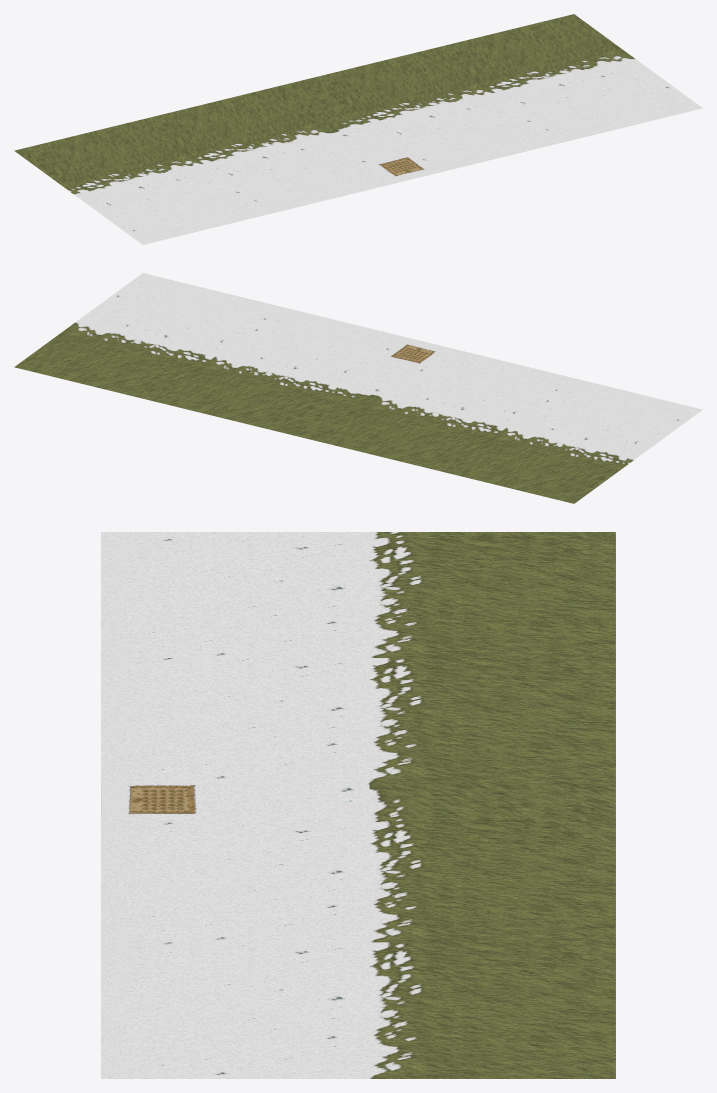
File: terrain.FBX
The picture shows the model from 3 angles, top to bottom: view 1: azimuth 30°, elevation 25°; view 2: azimuth 150°, elevation 25°; view 3: azimuth 270°, elevation 25°; orthographic projection. The views are drawn at different scales.
Parts seen in each view (by area): view 1: terrain; view 2: terrain; view 3: terrain.
Boxes of the visible parts, x1,y1,x2,y2 form: terrain: (14,14,702,244); terrain: (14,273,702,503); terrain: (101,532,615,1078).
Size of the model in its own units: 9478 by 2.31e-13 by 3776.
1 material, 1 textured.
